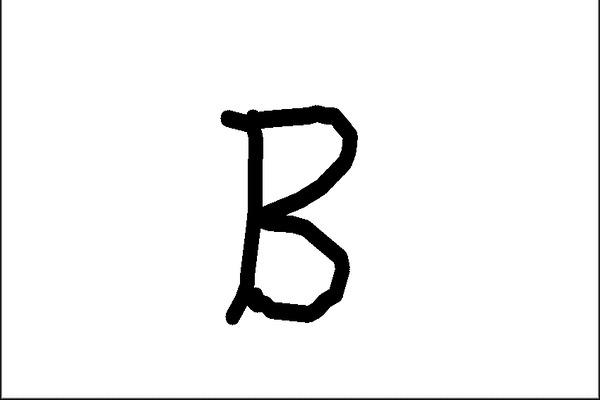B: (209, 92, 367, 337)
